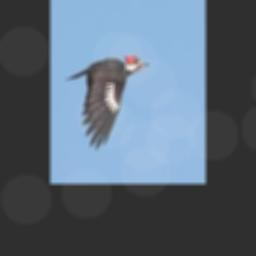Woodpecker: (66, 55, 148, 149)
